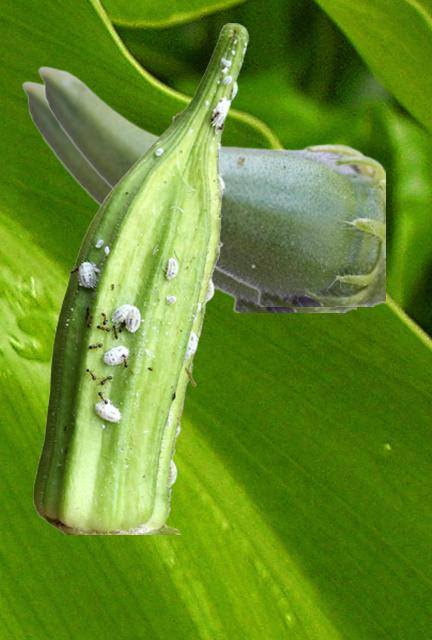okra: (33, 23, 248, 533), (37, 65, 384, 305), (21, 80, 355, 311)
